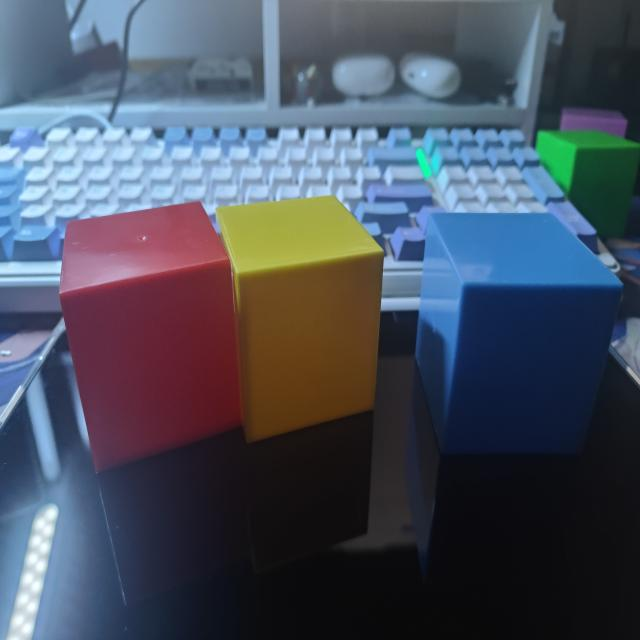blue: (414, 210, 623, 461)
red: (58, 201, 242, 476)
yellow: (216, 197, 385, 450)
